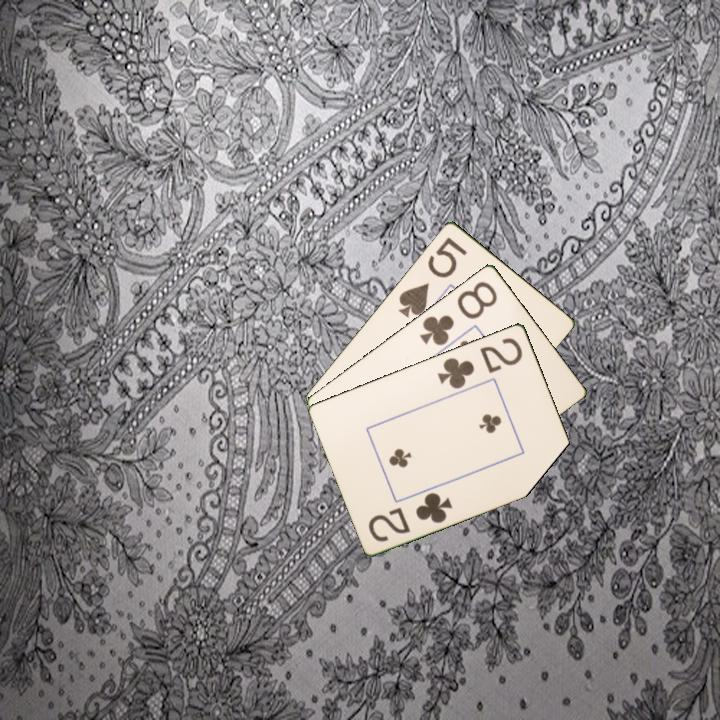2c: (434, 334, 526, 392), (365, 488, 455, 544)
5s: (395, 233, 470, 320)
8c: (416, 277, 500, 348)
